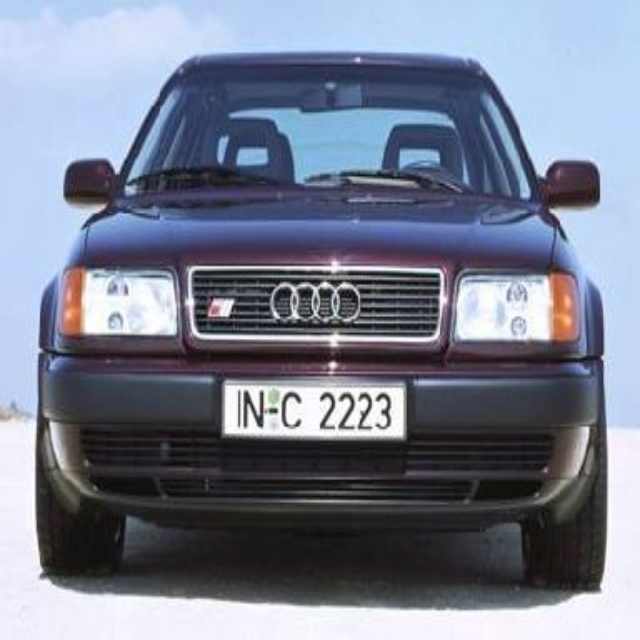Car: (35, 48, 607, 594)
